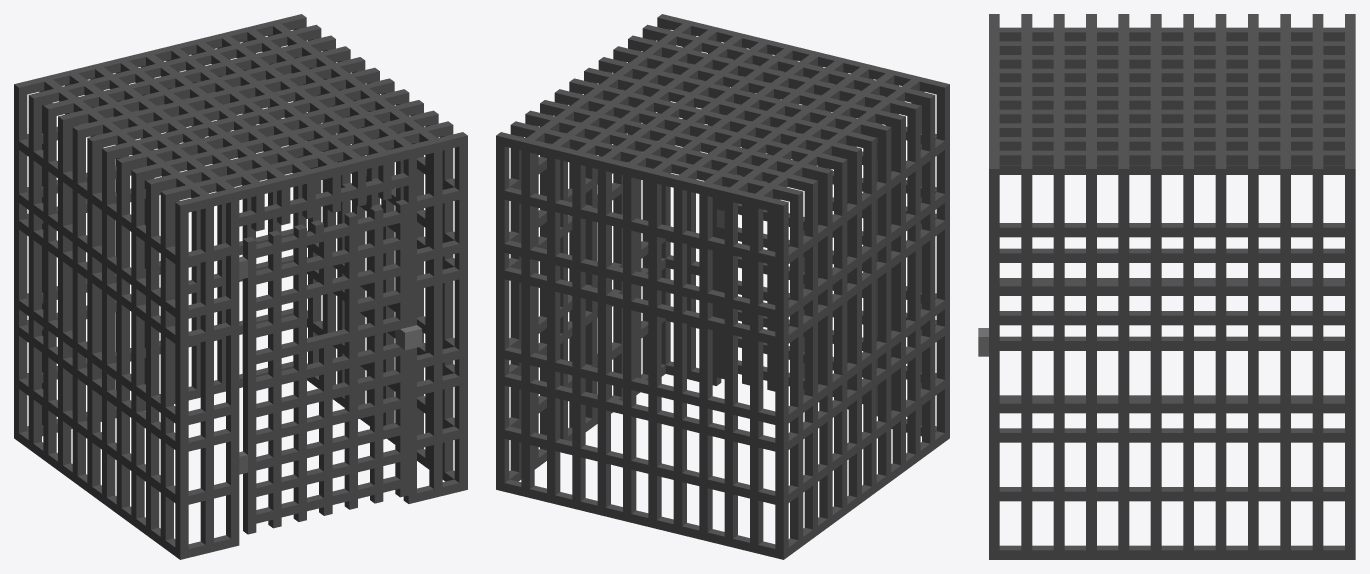
Rendered from NicolasCage.fbx.
The picture shows the model from 3 angles, left to right: view 1: azimuth 30°, elevation 25°; view 2: azimuth 150°, elevation 25°; view 3: azimuth 270°, elevation 25°; orthographic projection. The views are drawn at different scales.
Visible parts, largest first — view 1: root; view 2: root; view 3: root.
Part boxes in pixels (left/top/right/bottom): root: left=14, top=14, right=467, bottom=559; root: left=496, top=14, right=949, bottom=559; root: left=978, top=14, right=1355, bottom=559.
Size of the model in its own units: 0.4352 by 0.512 by 0.448.
Materials: 1 (1 with a texture image).
